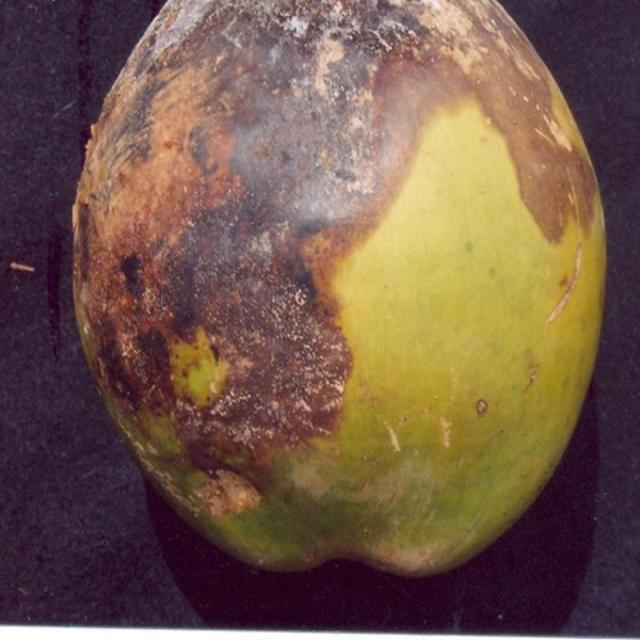damaged: (70, 0, 608, 599)
